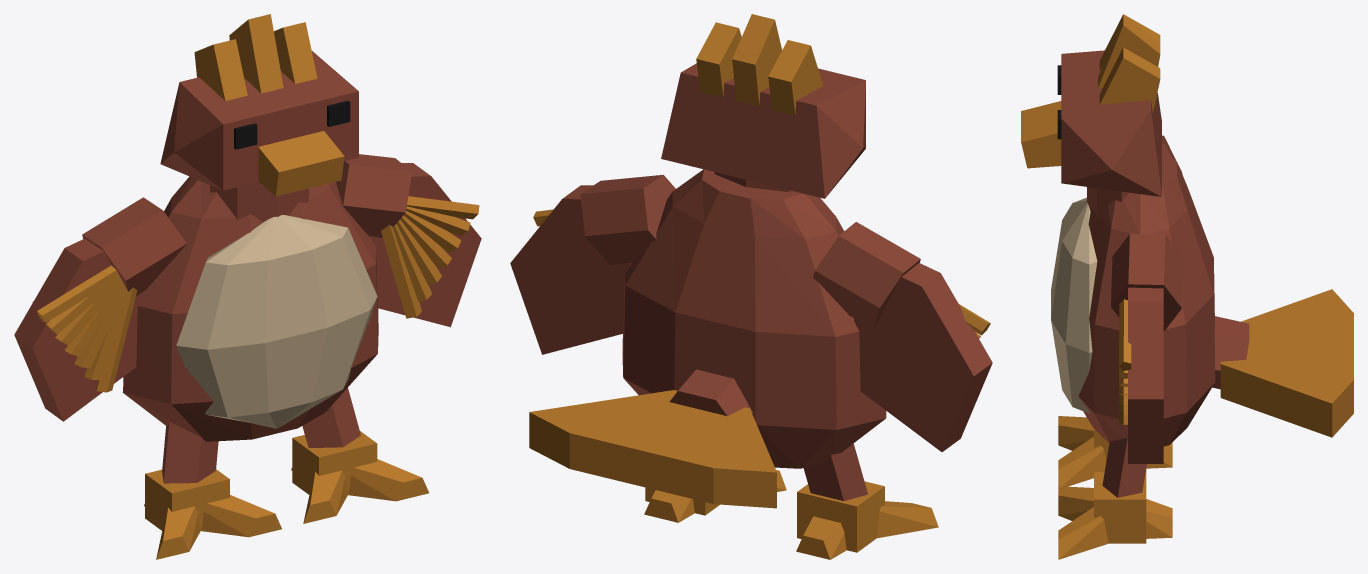
File: crestoven.glb
The picture shows the model from 3 angles, left to right: view 1: azimuth 30°, elevation 25°; view 2: azimuth 150°, elevation 25°; view 3: azimuth 270°, elevation 25°; orthographic projection. The views are drawn at different scales.
Parts seen in each view (by area): view 1: Crestoven; view 2: Crestoven; view 3: Crestoven.
Boxes of the visible parts, x1,y1,x2,y2 form: Crestoven: (14,14,481,559); Crestoven: (510,14,992,559); Crestoven: (1021,14,1353,559).
Size of the model in its own units: 1.22 by 1.26 by 0.8.
